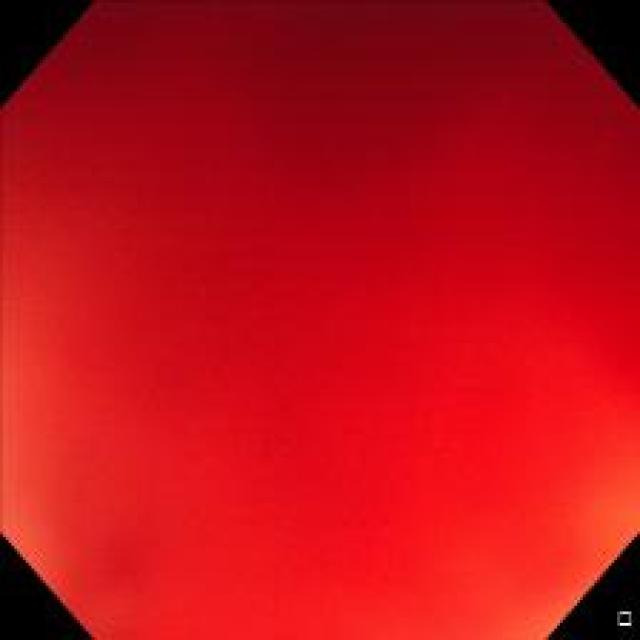color misalignment: (5, 5, 631, 626)
